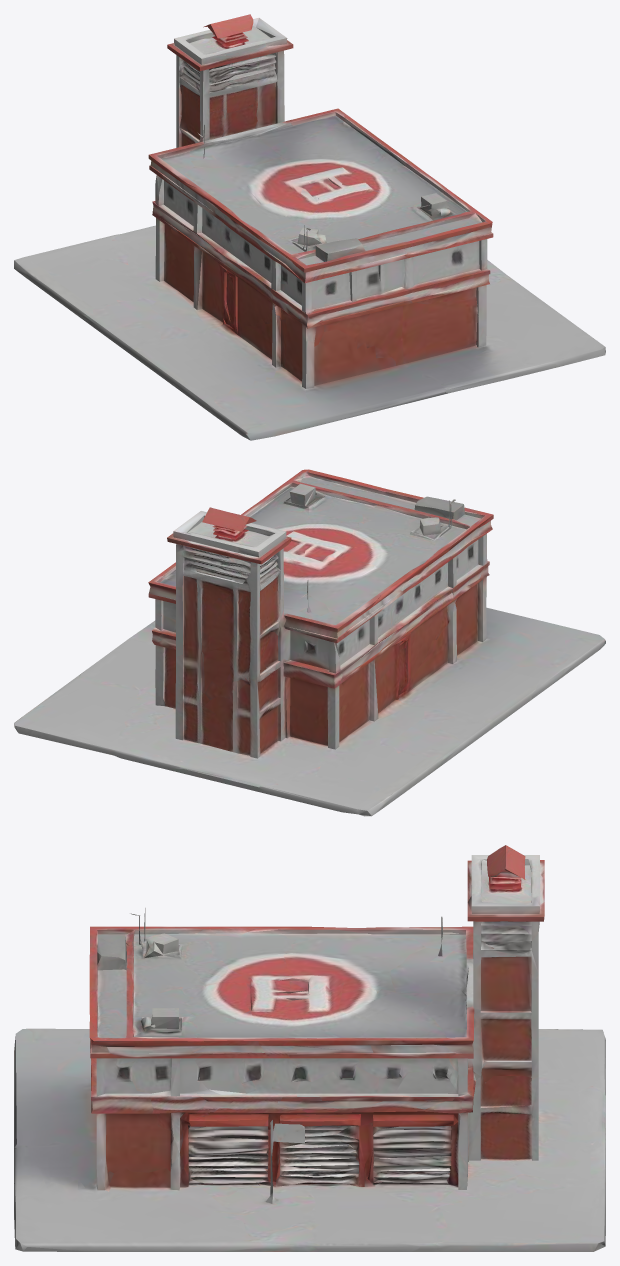
Rendered from predio_bombeiros.glb.
The picture shows the model from 3 angles, top to bottom: view 1: azimuth 30°, elevation 25°; view 2: azimuth 150°, elevation 25°; view 3: azimuth 270°, elevation 25°; orthographic projection. The views are drawn at different scales.
Parts seen in each view (by area): view 1: tripo_node_2e625de5-a2b8-48f9-adef-ad96588e72e2; view 2: tripo_node_2e625de5-a2b8-48f9-adef-ad96588e72e2; view 3: tripo_node_2e625de5-a2b8-48f9-adef-ad96588e72e2.
Part boxes in pixels (left/top/right/bottom): tripo_node_2e625de5-a2b8-48f9-adef-ad96588e72e2: left=14, top=14, right=605, bottom=440; tripo_node_2e625de5-a2b8-48f9-adef-ad96588e72e2: left=14, top=469, right=605, bottom=816; tripo_node_2e625de5-a2b8-48f9-adef-ad96588e72e2: left=14, top=845, right=605, bottom=1251.
Bounding box in the file's own units: 0.8641 × 0.5352 × 1.
Materials: 1 (1 with a texture image).
